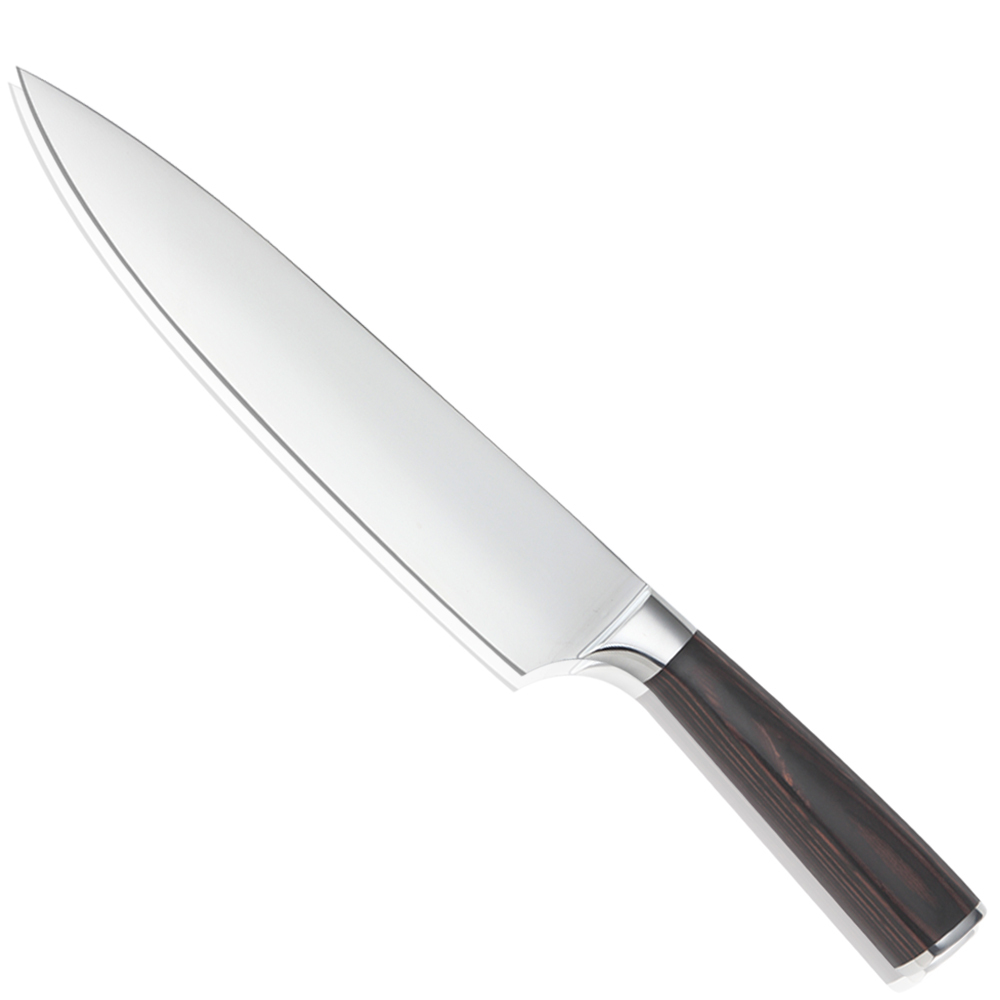knife: (10, 57, 995, 971)
